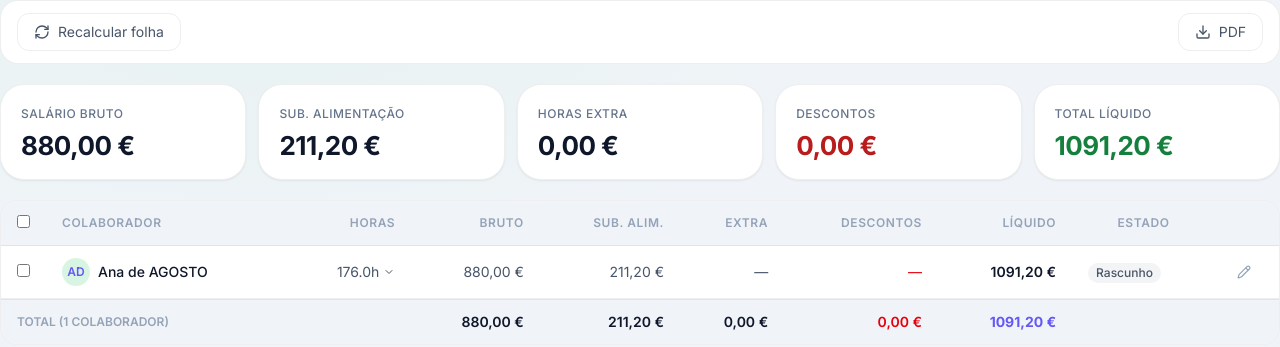
it: Folha de Pagamento ao mudar de período › 5. 🔴 a seleção de Agosto não sobrevive à mudança para Julho
Click the checkbox in the row of "Sub. Alim.".
click(24, 222)  # box 17,215 -> 30,228
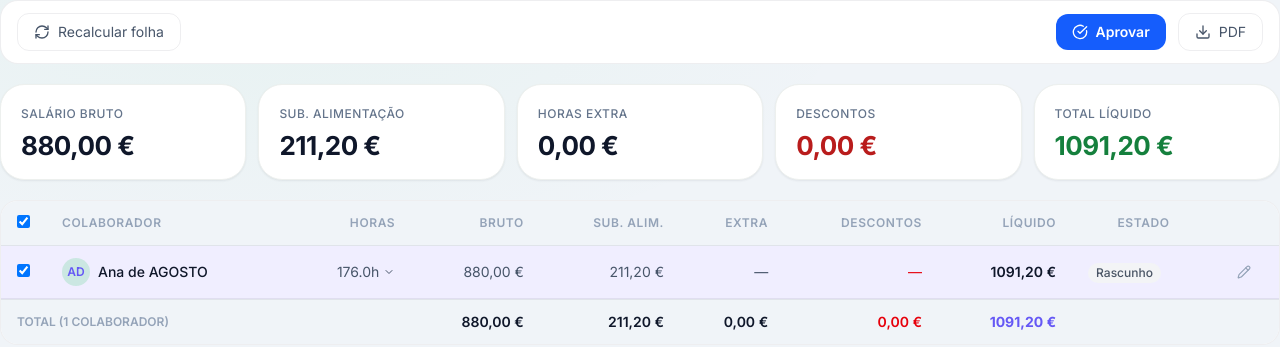
Click the checkbox in the row of "Ana de AGOSTO".
click(24, 270)  # box 17,264 -> 30,277
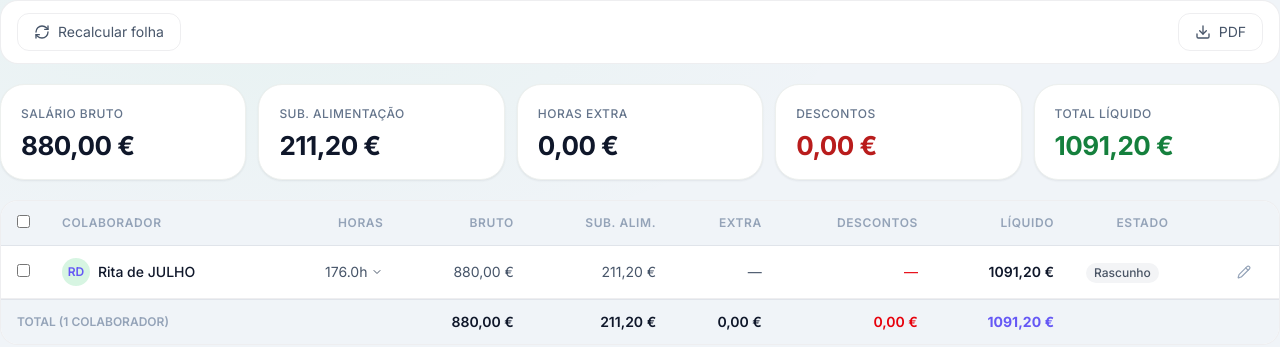
Result: the text "Rita de JULHO" is shown at 98,262 -> 195,282
